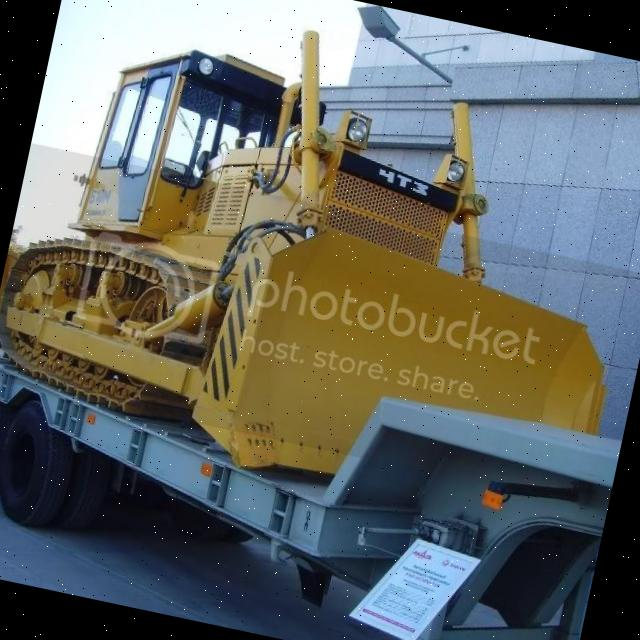Bulldozer: (0, 10, 640, 550)
